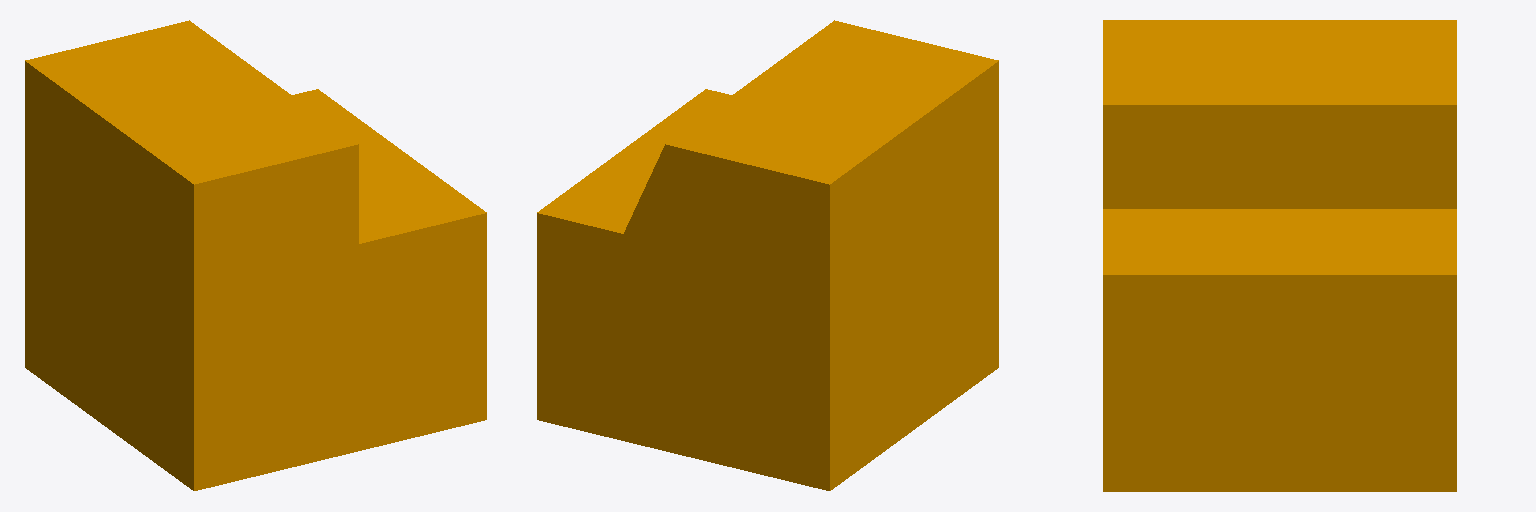
robot.urdf — object:
<?xml version="1.0"?>
<robot name="object">
  <link name="object">
    <visual>
      <origin xyz="0 0 0"/>
      <geometry>
        <mesh filename="meshes/set2/set_obj2_block.obj" scale=".03 .03 .03"/>
      </geometry>
    </visual>
    <collision>
  <origin xyz="0 0 0"/>
  <geometry>
    <mesh filename="meshes/set2/set_obj2_block_0decompose.obj" scale=".03 .03 .03"/>
<!--          <mesh filename="meshes/custom/obj0_ball.obj" scale=".05 .05 .05"/>-->
  </geometry>
</collision>

<!--    <collision>-->
<!--      <origin xyz="0 0 0"/>-->
<!--      <geometry>-->
<!--        <mesh filename="meshes/set2/set_obj2_block.obj" scale=".03 .03 .03"/>-->
<!--&lt;!&ndash;          <mesh filename="meshes/custom/obj0_ball.obj" scale=".05 .05 .05"/>&ndash;&gt;-->
<!--      </geometry>-->
<!--    </collision>-->
    <inertial>
      <density value="1000.0"/>
    </inertial>
  </link>
</robot>

--- What the picture shows (computed from the rendered views, not written in the file) ---
The picture shows the robot from 3 angles, left to right: view 1: azimuth 30°, elevation 25°; view 2: azimuth 150°, elevation 25°; view 3: azimuth 270°, elevation 25°; orthographic projection.
Model object with 1 links and 0 joints (none), rooted at object, posed every joint at zero.
Visible links, largest first — view 1: object; view 2: object; view 3: object.
Link boxes in pixels (left/top/right/bottom): object: left=25, top=20, right=486, bottom=490; object: left=537, top=20, right=998, bottom=490; object: left=1103, top=20, right=1456, bottom=491.
Bounding box of the posed robot: 0.06 × 0.06 × 0.06 m (x, y, z).
1 mesh visuals loaded from 1 distinct referenced files (1 OBJ).